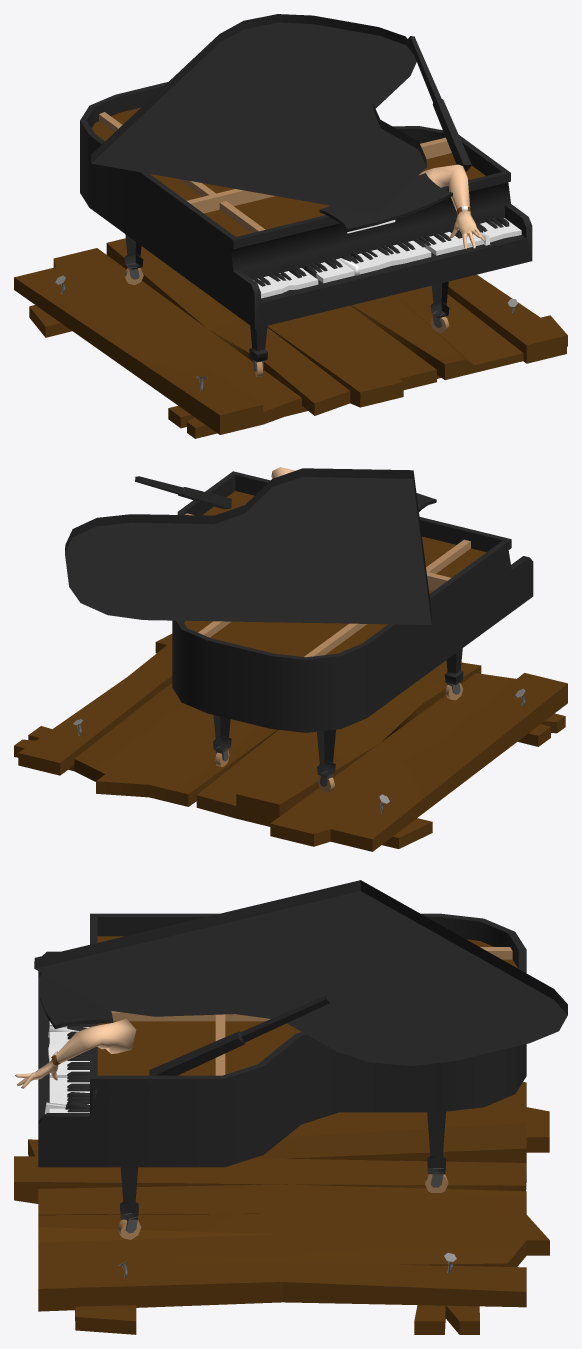
File: piano.glb
The picture shows the model from 3 angles, top to bottom: view 1: azimuth 30°, elevation 25°; view 2: azimuth 150°, elevation 25°; view 3: azimuth 270°, elevation 25°; orthographic projection. The views are drawn at different scales.
Visible parts, largest first — view 1: Piano; view 2: Piano; view 3: Piano.
Boxes of the visible parts, box(x1,y1,x2,y2) form: Piano: box(14, 14, 567, 438); Piano: box(14, 467, 567, 851); Piano: box(14, 880, 567, 1334).
Size of the model in its own units: 2.25 by 1.37 by 2.27.
1 material, 1 textured.
